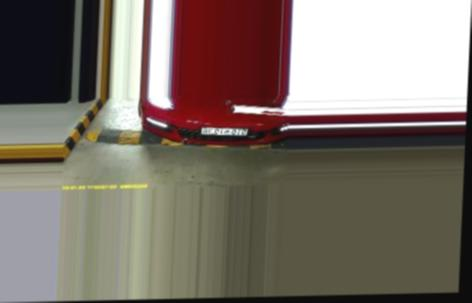License_Plate: (200, 126, 252, 139)
